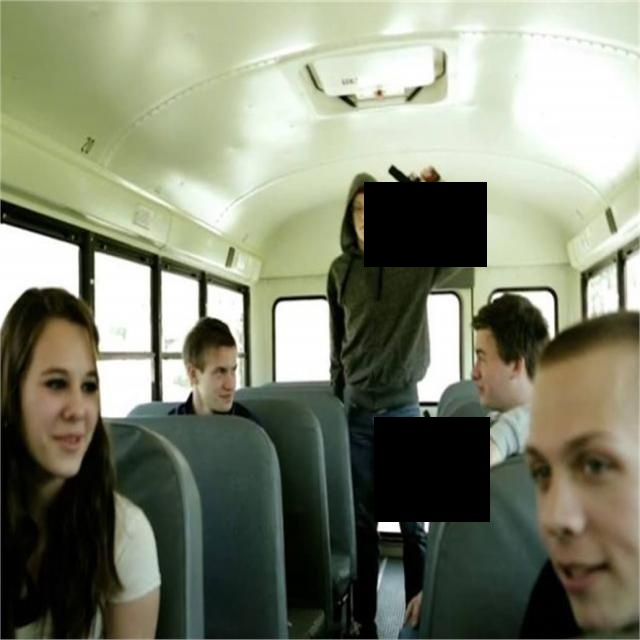gun: (384, 154, 455, 182)
